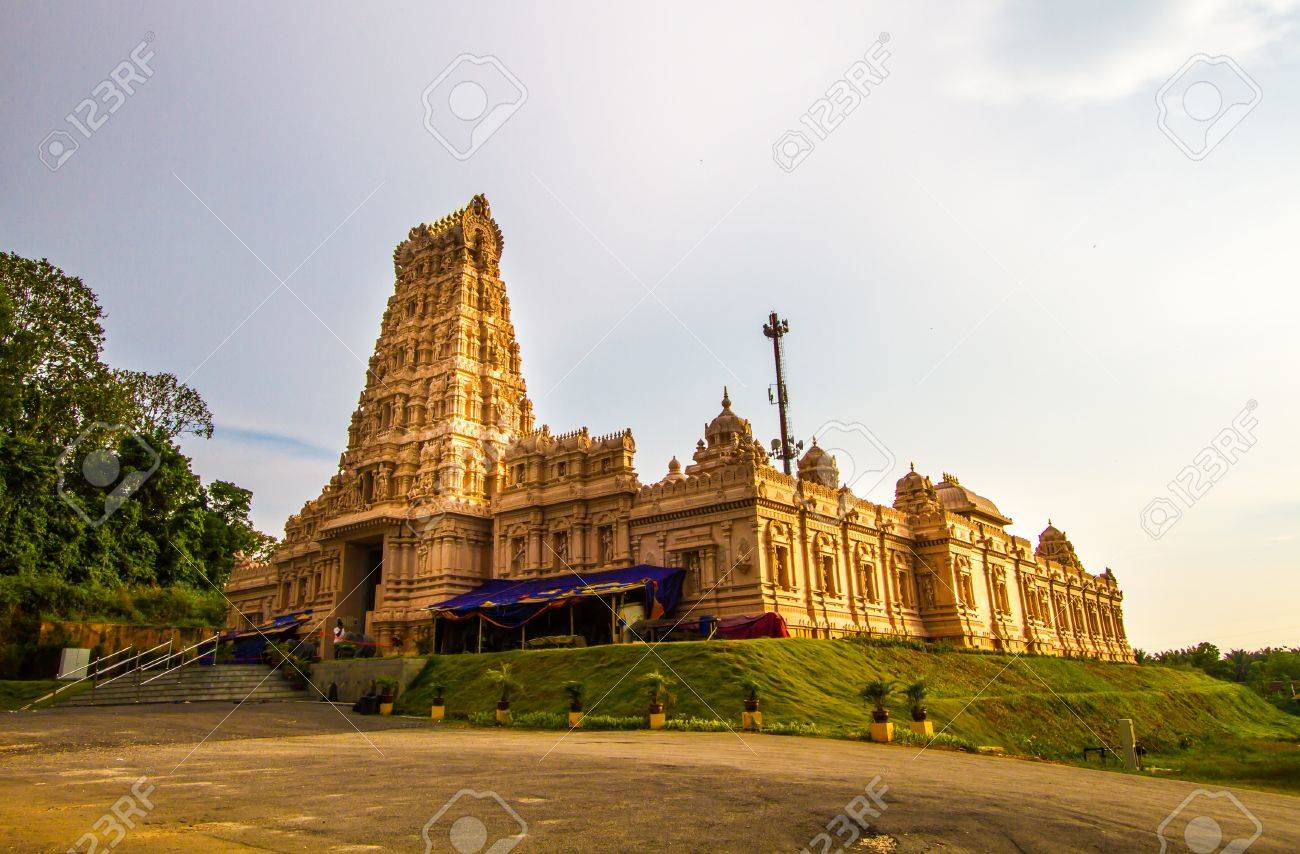Hindu Temple: (266, 190, 1115, 689)
